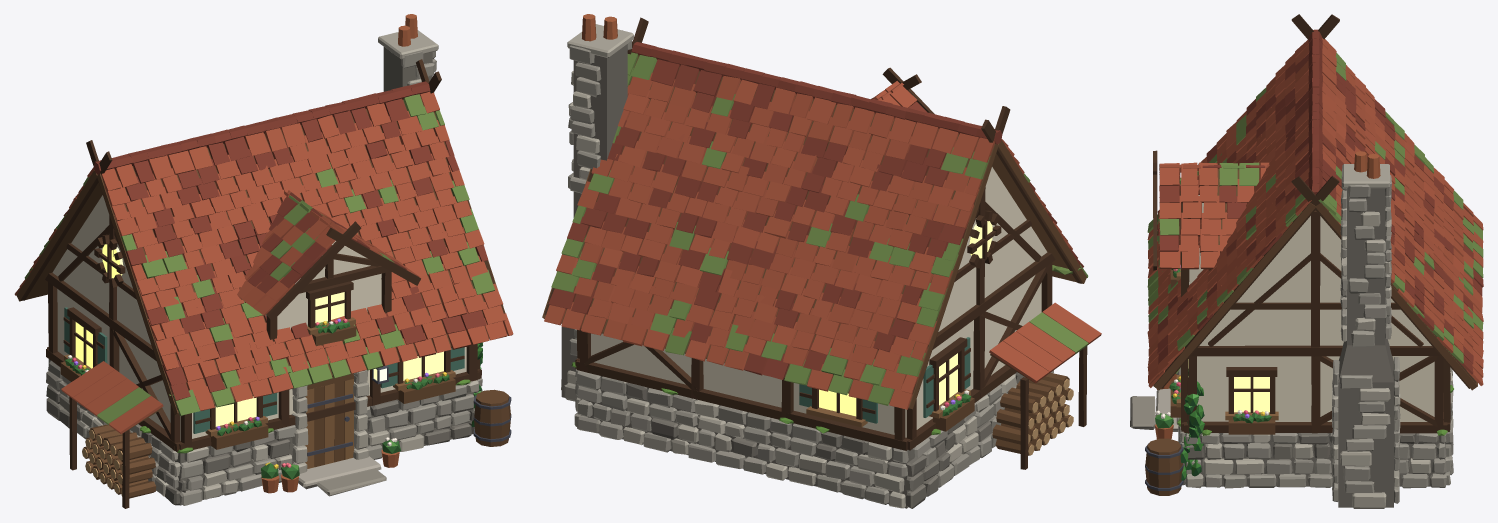
The model's file is cottage.glb.
3 views of the same model, side by side, from view 1: azimuth 30°, elevation 25°; view 2: azimuth 150°, elevation 25°; view 3: azimuth 270°, elevation 25° (orthographic). The views are drawn at different scales.
Visible parts, largest first — view 1: 小屋; view 2: 小屋; view 3: 小屋.
Part boxes in pixels (box(x1,y1,x2,y2)): 小屋: box(14, 14, 513, 508); 小屋: box(542, 14, 1101, 508); 小屋: box(1130, 14, 1483, 508).
Bounding box in the file's own units: 8.72 × 7.16 × 6.66.
